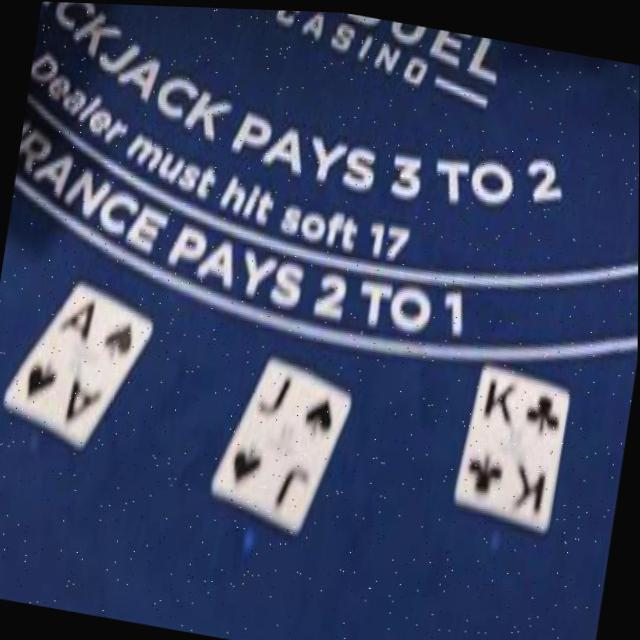Card-A: (3, 275, 154, 449)
Card-J: (212, 353, 354, 534)
Card-K: (455, 357, 570, 527)
